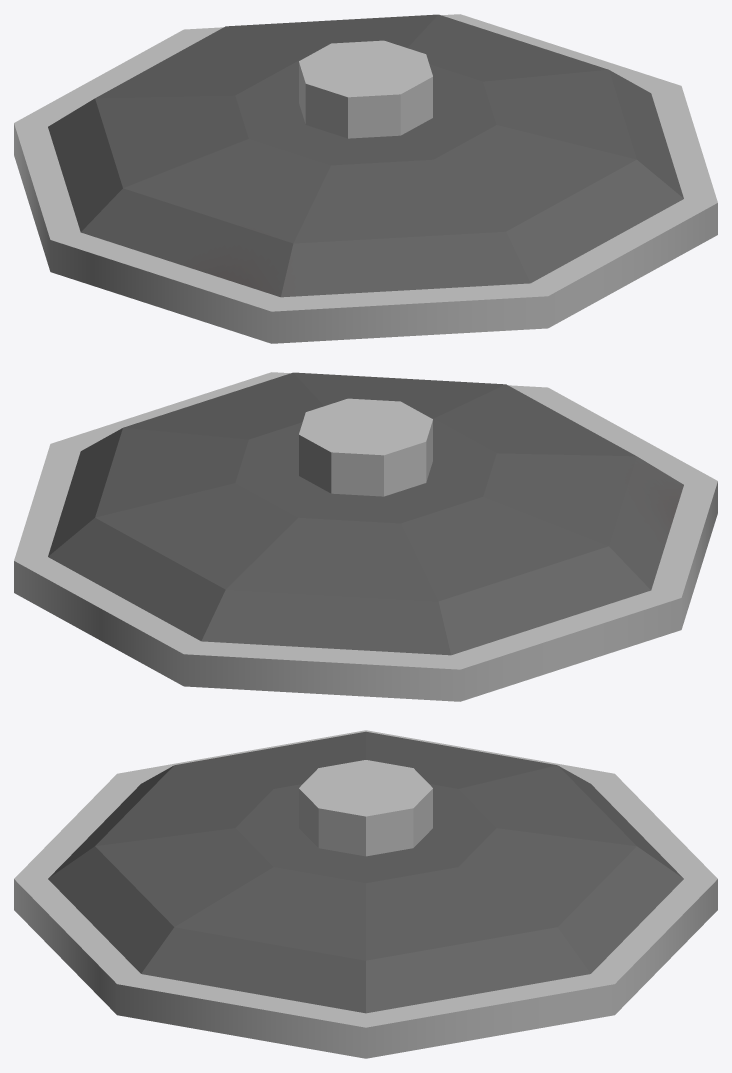
The model's file is Unwrapped_TrashLid.fbx.
3 renders of one model, top to bottom at view 1: azimuth 30°, elevation 25°; view 2: azimuth 150°, elevation 25°; view 3: azimuth 270°, elevation 25°, orthographic. The views are drawn at different scales.
Visible parts, largest first — view 1: trashlid; view 2: trashlid; view 3: trashlid.
Boxes of the visible parts, box(x1,y1,x2,y2) form: trashlid: box(14, 14, 717, 343); trashlid: box(14, 372, 717, 701); trashlid: box(14, 730, 717, 1058).
Bounding box in the file's own units: 72.03 × 13.76 × 72.03.
